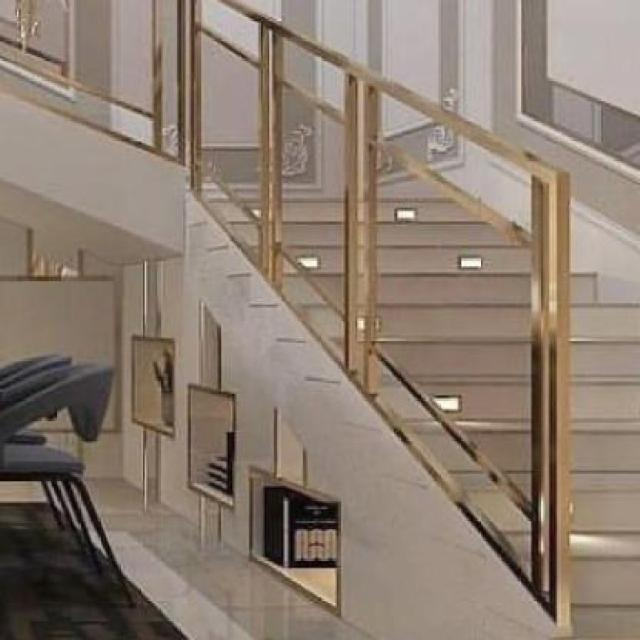stair: (169, 83, 640, 639)
